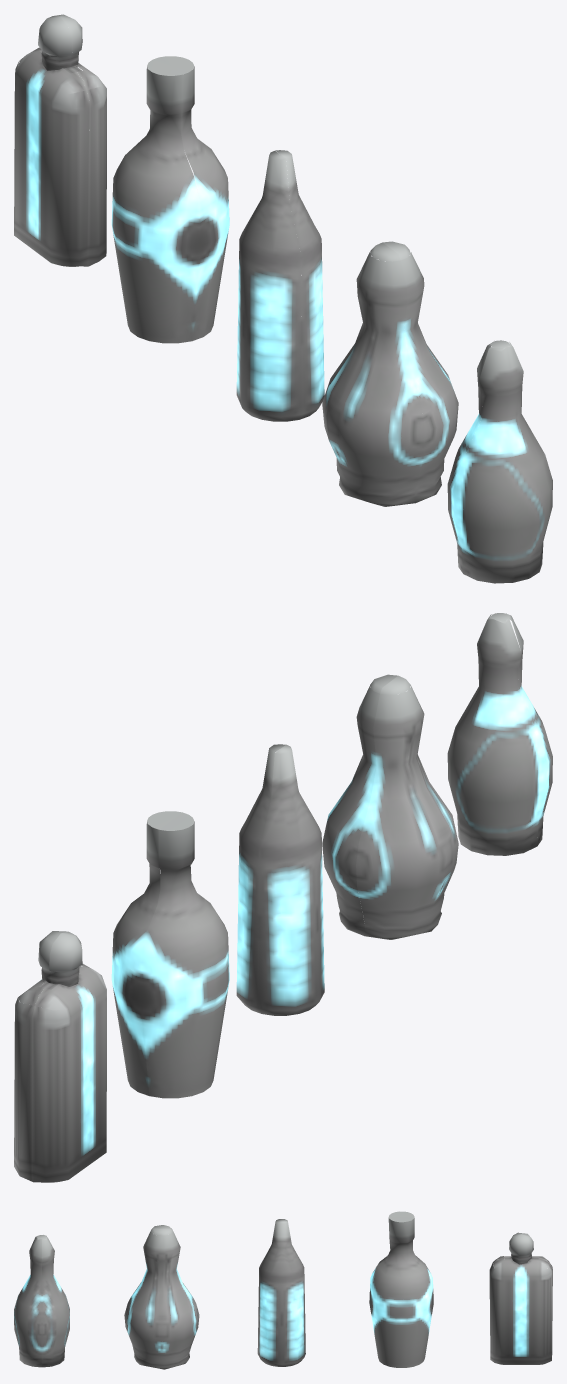
The model's file is bar_bottles_1_b.glb.
3 views of the same model, one above another, from view 1: azimuth 30°, elevation 25°; view 2: azimuth 150°, elevation 25°; view 3: azimuth 270°, elevation 25° (orthographic). The views are drawn at different scales.
Parts seen in each view (by area): view 1: bar_bottles_1; view 2: bar_bottles_1; view 3: bar_bottles_1.
Part boxes in pixels (<box>): bar_bottles_1: <box>14,14,552,583</box>; bar_bottles_1: <box>14,613,552,1182</box>; bar_bottles_1: <box>14,1211,552,1369</box>.
Bounding box in the file's own units: 0.1493 × 0.3147 × 1.08.
1 material, 1 textured.
